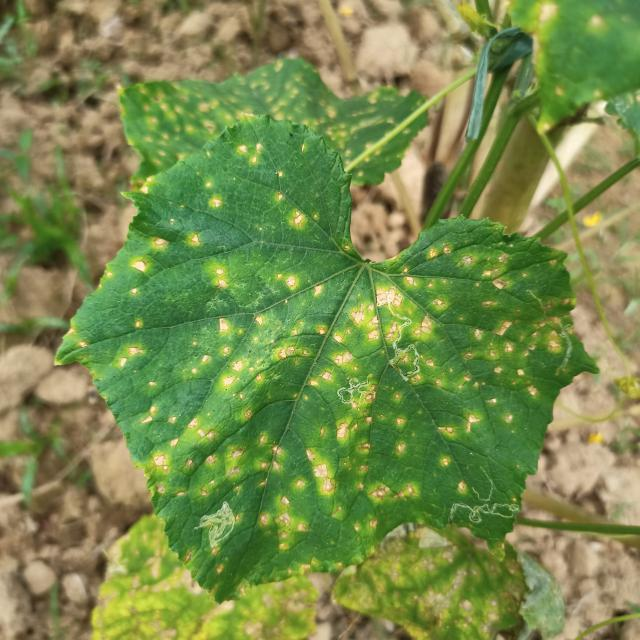disease_cucumber: (103, 244, 575, 572), (274, 189, 313, 234), (150, 230, 204, 252), (200, 179, 226, 212), (238, 137, 264, 169)
